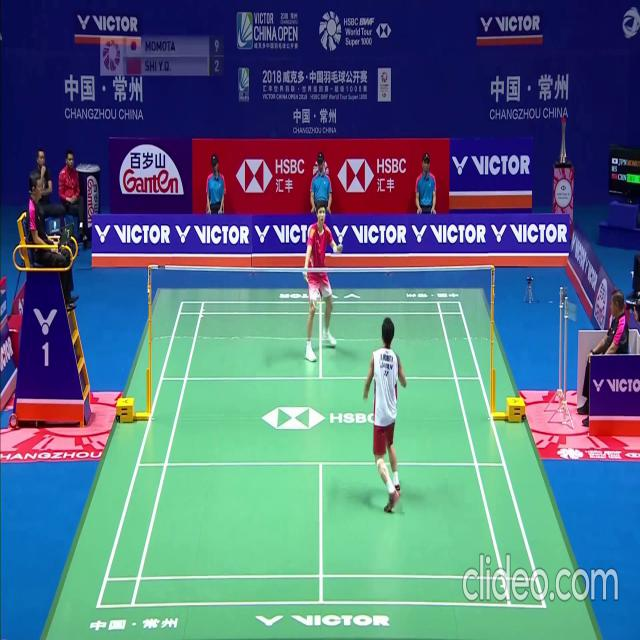Shuttlecock: (333, 246, 338, 253)
